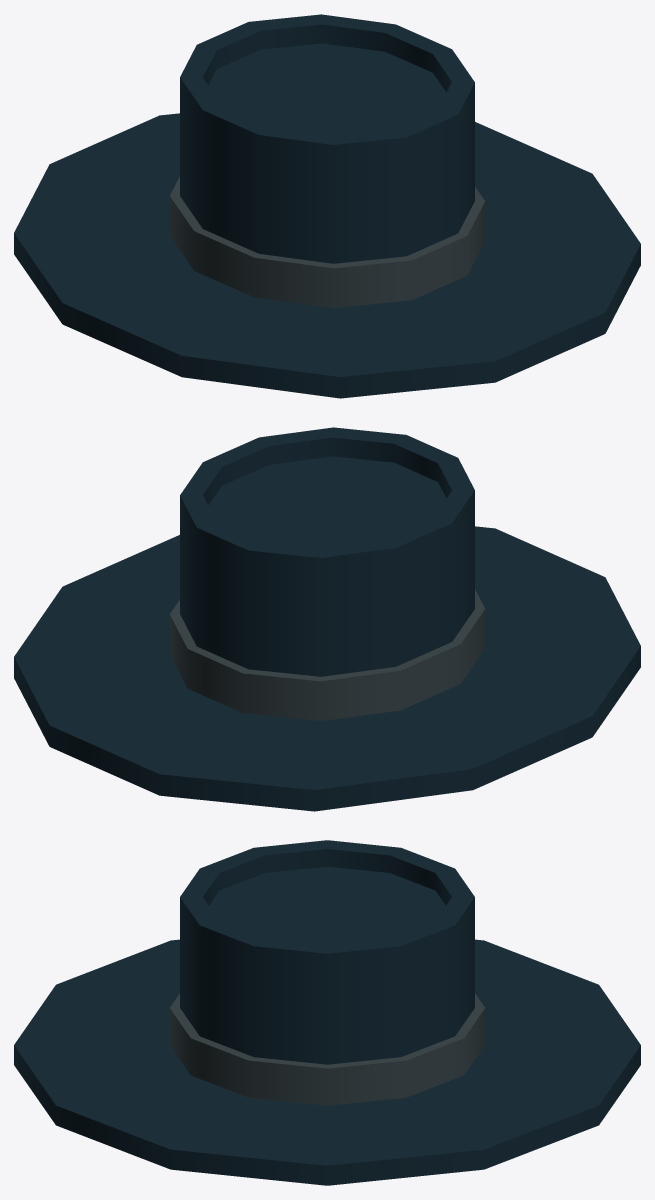
The model's file is chapeu_base.fbx.
The picture shows the model from 3 angles, top to bottom: view 1: azimuth 30°, elevation 25°; view 2: azimuth 150°, elevation 25°; view 3: azimuth 270°, elevation 25°; orthographic projection. The views are drawn at different scales.
Parts seen in each view (by area): view 1: chapeu_base; view 2: chapeu_base; view 3: chapeu_base.
Part boxes in pixels (x1,y1,x2,y2): chapeu_base: (14, 14, 640, 398); chapeu_base: (14, 427, 640, 811); chapeu_base: (14, 840, 640, 1185).
Size of the model in its own units: 52.24 by 16.96 by 57.33.
